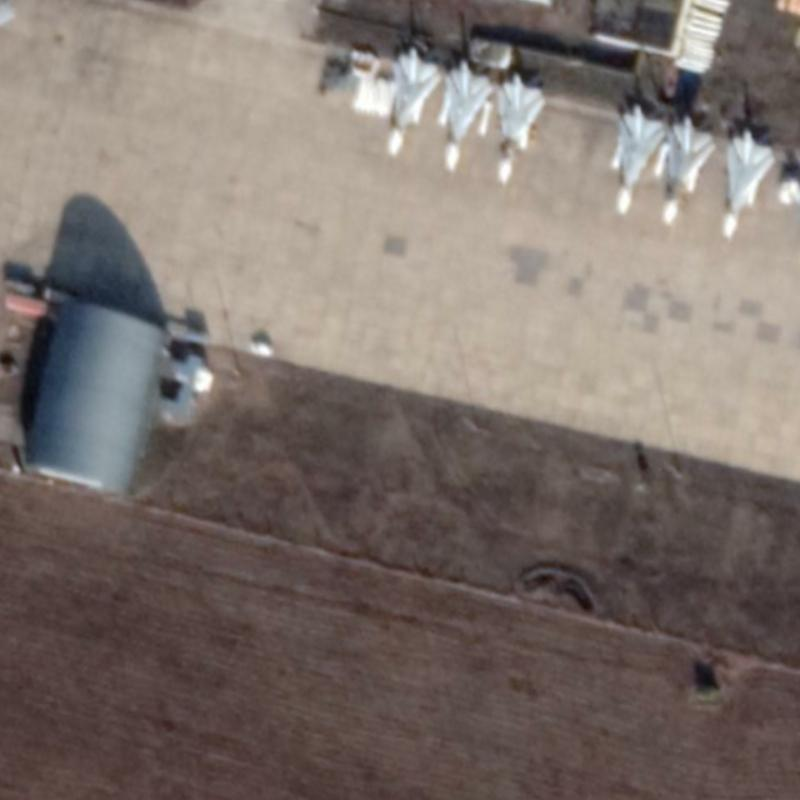A20: (383, 43, 441, 157), (659, 113, 718, 224), (719, 126, 777, 238), (612, 101, 667, 216), (494, 69, 547, 185), (441, 57, 493, 172)
